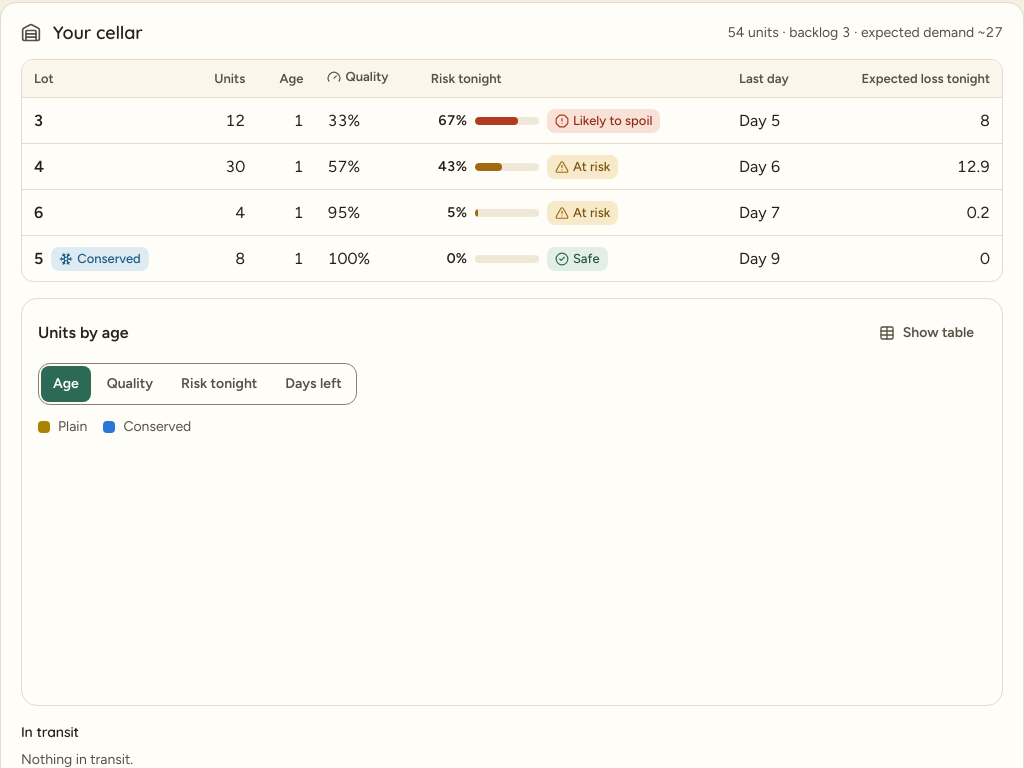
Test case: CellarChart views › each grouped view has a table of the plotted bars
The width and height of the screenshot is (1024, 768).
(page scrolled)
Click the button "Days left" at (314, 384), box [273,366,354,402]
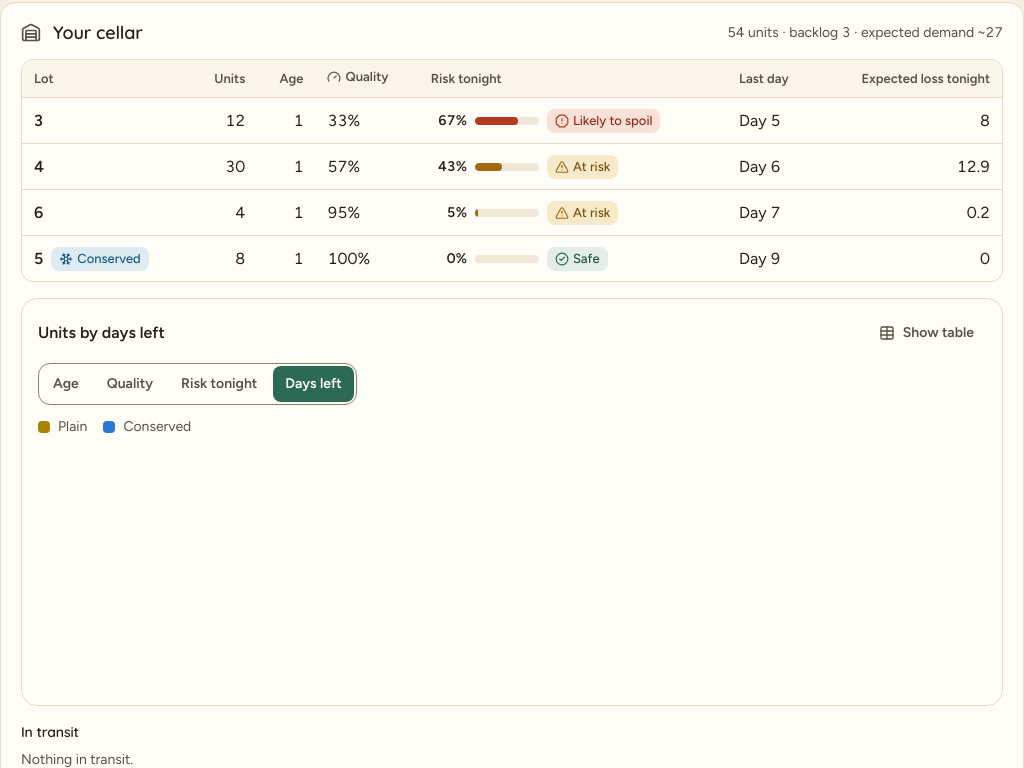
Click the button "Show table" at (926, 333), box [867,315,986,351]
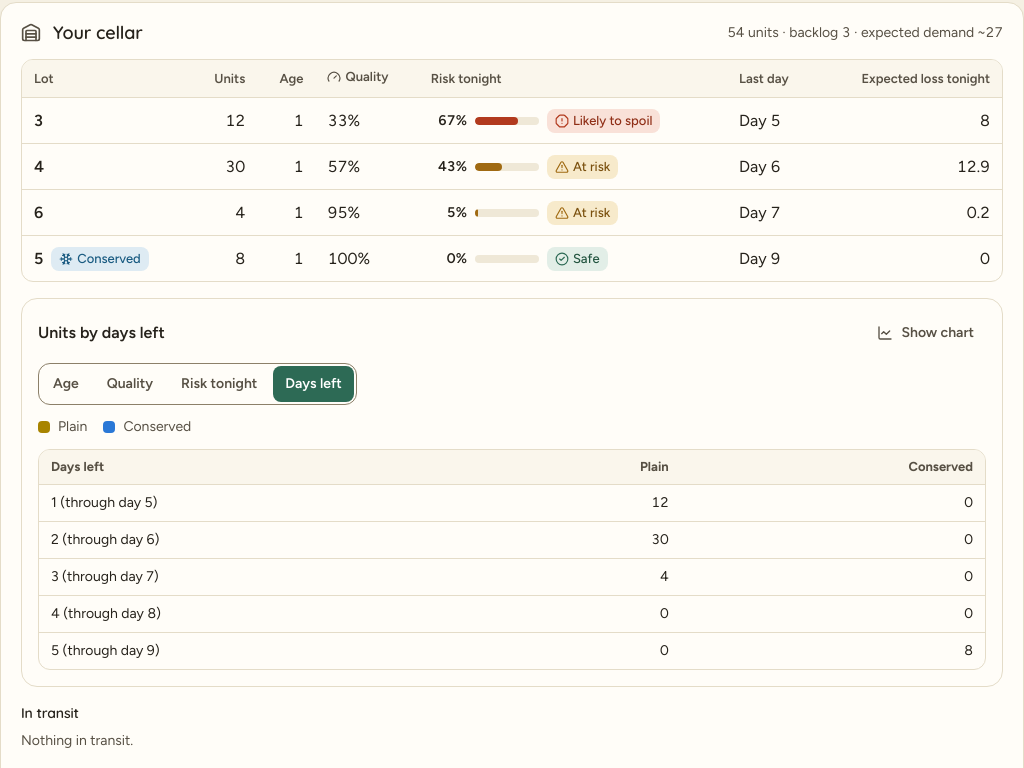
Expected: the column headings read "Days left", "Plain", "Conserved", in this order, [39,450,499,484]; [499,450,681,484]; [681,450,985,484]
